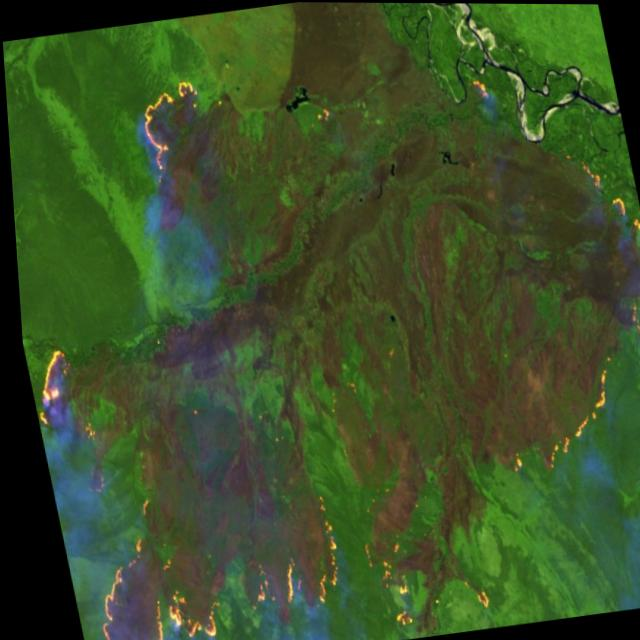fire: (17, 310, 352, 640), (481, 141, 640, 487), (349, 519, 492, 638), (124, 65, 219, 191)
